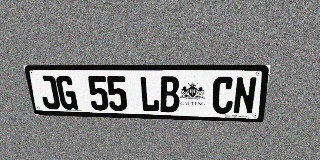5: (87, 76, 109, 111), (106, 76, 128, 111)
B: (159, 76, 179, 113)
C: (212, 76, 235, 114)
G: (55, 76, 78, 110)
J: (37, 76, 61, 109)
L: (139, 76, 160, 112)
N: (233, 77, 257, 115)
